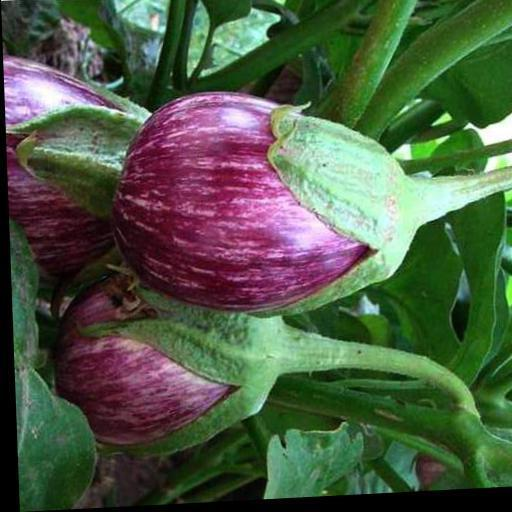eggplant: (6, 42, 474, 461), (102, 85, 506, 324), (66, 264, 462, 438)
